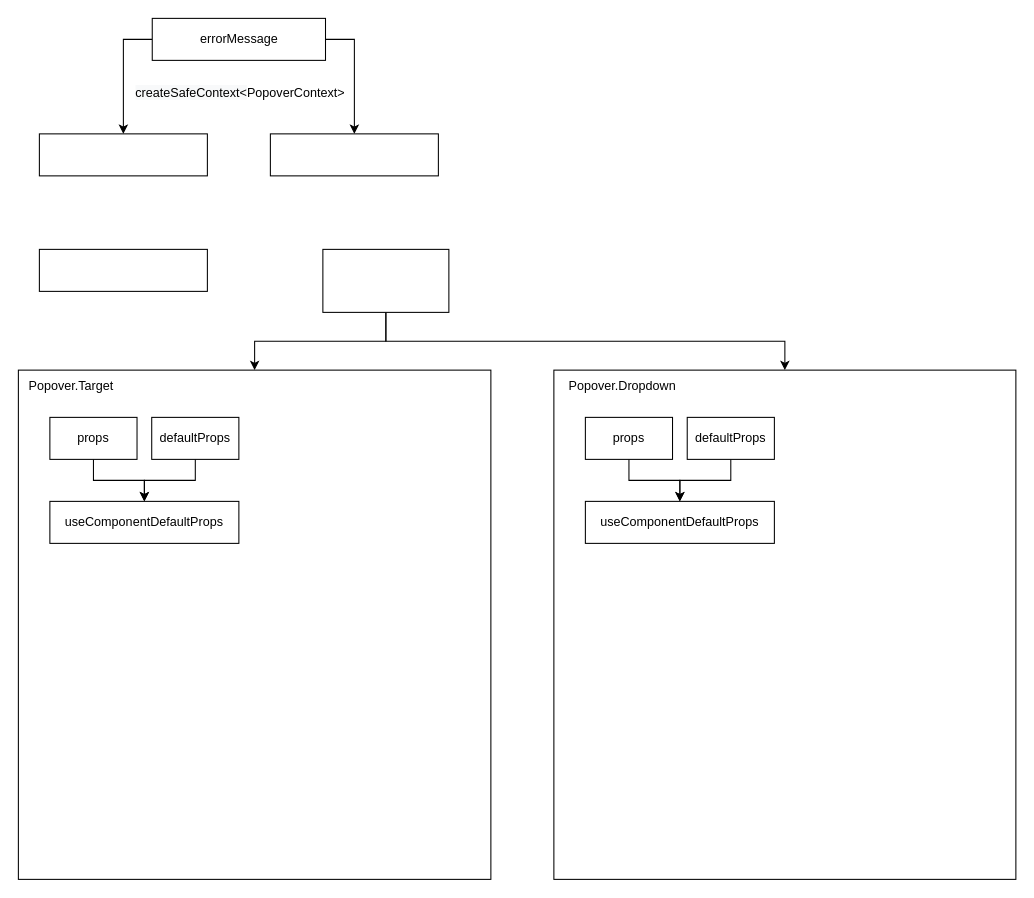
Some shapes in this 1034 by 898 pixel diagram are drawn without their labels. Each missing label, with the box of its shape:
Popover: (322, 248, 449, 312)
PopoverContextProvider: (38, 133, 207, 176)
usePopover: (38, 248, 207, 291)
usePopoverContext: (269, 133, 438, 176)
